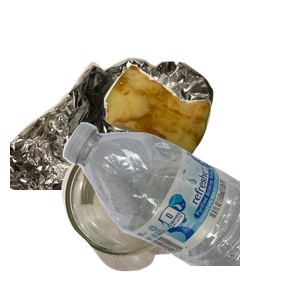glass: (59, 135, 254, 300)
metal: (10, 47, 216, 227)
plastic: (60, 120, 300, 300)
trash: (101, 62, 300, 217)
